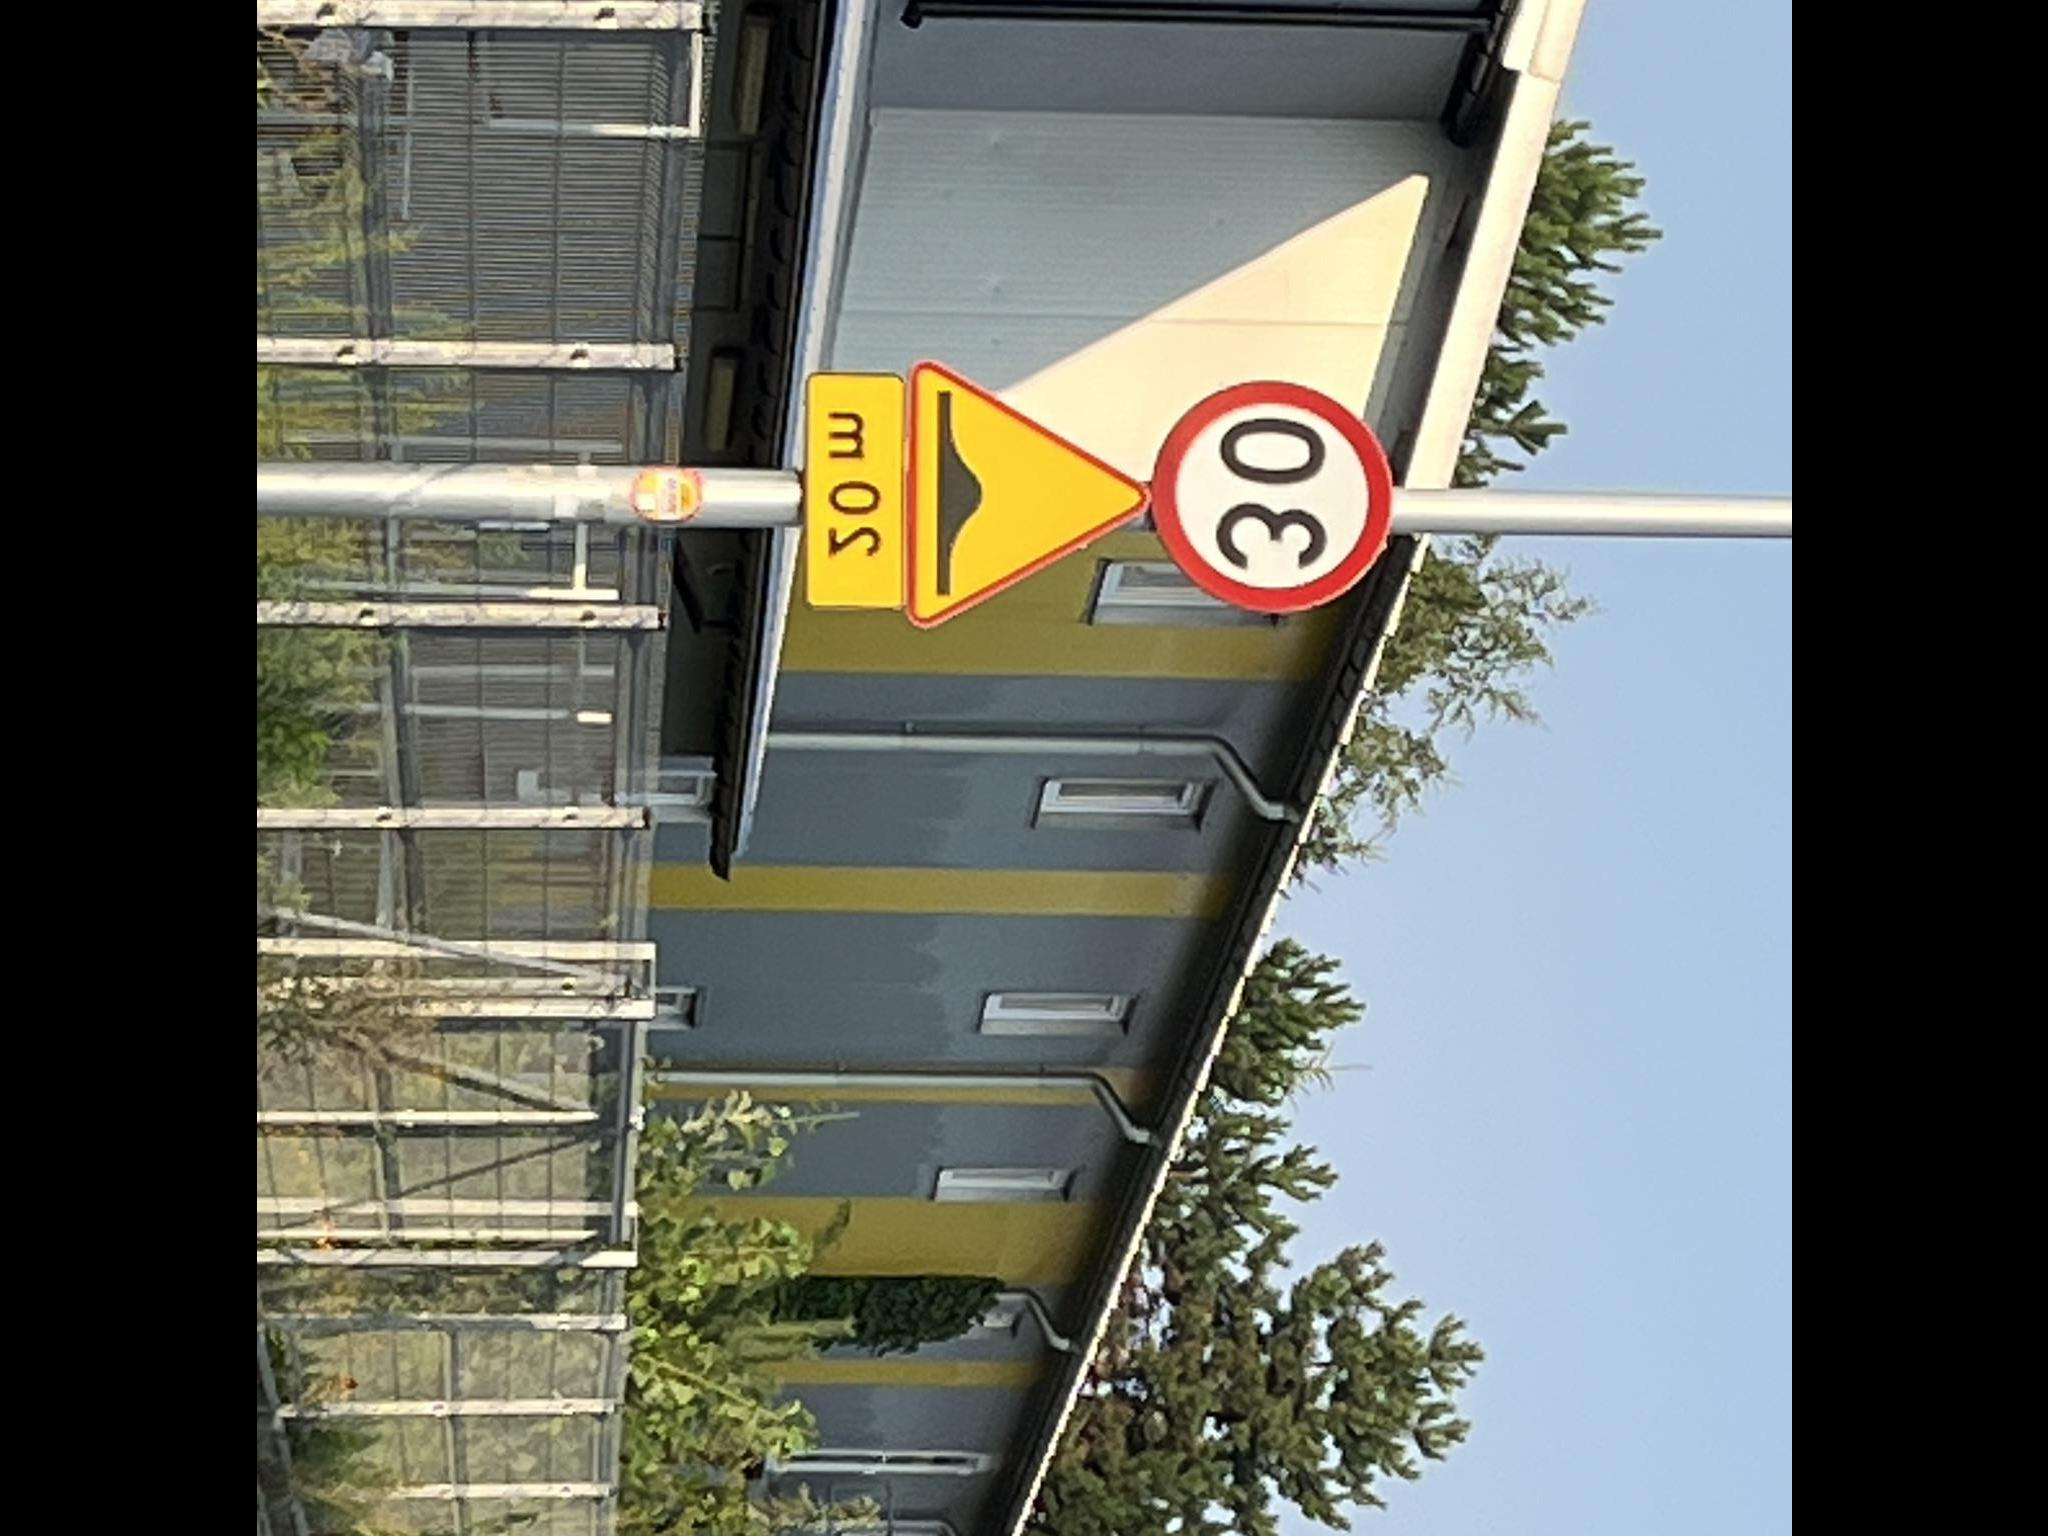other: (810, 374, 900, 603)
prohibitory: (1150, 378, 1390, 611)
warning: (901, 358, 1147, 632)
